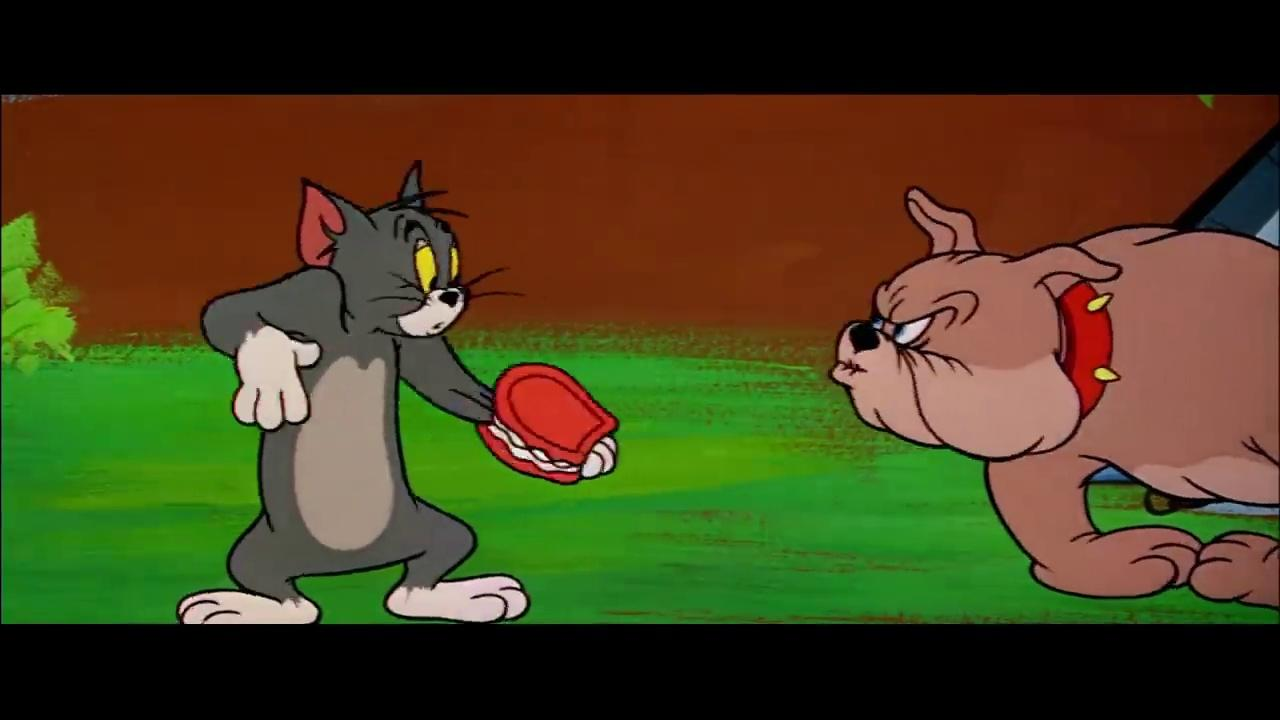Tom: (173, 154, 530, 623)
